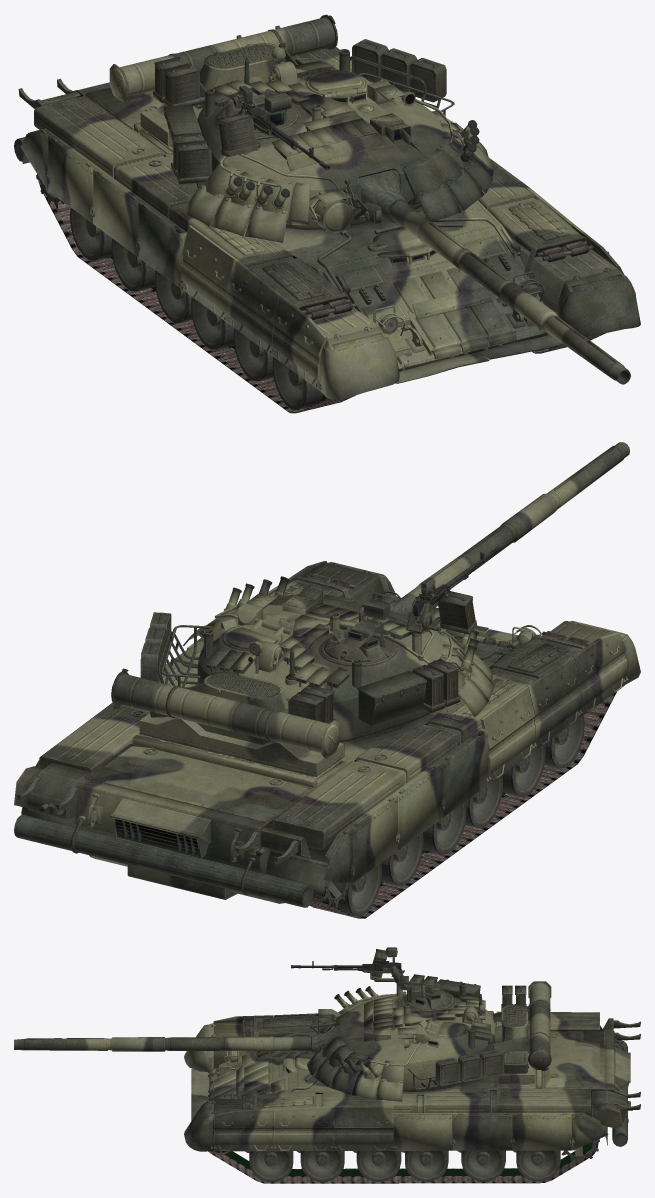
The model's file is t80u_javanilga.glb.
The picture shows the model from 3 angles, top to bottom: view 1: azimuth 30°, elevation 25°; view 2: azimuth 150°, elevation 25°; view 3: azimuth 270°, elevation 25°; orthographic projection. The views are drawn at different scales.
Parts seen in each view (by area): view 1: T-80U_Main_2, Object_48, Object_44, Plane01_7, Object_18, Object_34, Object_26, Object_22, Object_28, Object_20, Object_24, Object_32 (+2 smaller); view 2: T-80U_Main_2, Object_48, Object_44, Plane01_7, Object_34, Object_28, Object_24, Object_20, Object_26, Object_18, Object_22, Object_32 (+1 smaller); view 3: T-80U_Main_2, Object_48, Object_44, Plane01_7, Object_26, Object_28, Object_18, Object_20, Object_22, Object_24, Object_8, Object_32 (+2 smaller).
Boxes of the visible parts, left/top/right/bottom form: T-80U_Main_2: left=14, top=25, right=640, bottom=399; Object_48: left=109, top=14, right=493, bottom=242; Object_44: left=357, top=169, right=630, bottom=384; Plane01_7: left=37, top=174, right=605, bottom=413; Object_18: left=272, top=346, right=555, bottom=409; Object_34: left=217, top=105, right=260, bottom=156; Object_26: left=111, top=238, right=155, bottom=291; Object_22: left=190, top=297, right=234, bottom=349; Object_28: left=69, top=208, right=112, bottom=260; Object_20: left=233, top=328, right=273, bottom=380; Object_24: left=154, top=270, right=192, bottom=322; Object_32: left=236, top=85, right=329, bottom=169; T-80U_Main_2: left=14, top=561, right=640, bottom=907; Object_48: left=111, top=576, right=494, bottom=776; Object_44: left=390, top=442, right=629, bottom=616; Plane01_7: left=309, top=692, right=616, bottom=918; Object_34: left=395, top=590, right=476, bottom=634; Object_28: left=324, top=863, right=381, bottom=915; Object_24: left=422, top=801, right=466, bottom=854; Object_20: left=502, top=744, right=545, bottom=796; Object_26: left=381, top=833, right=423, bottom=885; Object_18: left=544, top=715, right=584, bottom=768; Object_22: left=465, top=775, right=503, bottom=827; Object_32: left=409, top=546, right=500, bottom=624; T-80U_Main_2: left=184, top=1011, right=640, bottom=1152; Object_48: left=307, top=974, right=551, bottom=1101; Object_44: left=14, top=1024, right=339, bottom=1053; Plane01_7: left=208, top=1120, right=598, bottom=1183; Object_26: left=461, top=1150, right=505, bottom=1181; Object_28: left=516, top=1150, right=560, bottom=1181; Object_18: left=249, top=1130, right=293, bottom=1181; Object_20: left=300, top=1133, right=344, bottom=1181; Object_22: left=356, top=1151, right=401, bottom=1181; Object_24: left=405, top=1150, right=448, bottom=1181; Object_8: left=224, top=1144, right=592, bottom=1176; Object_32: left=291, top=947, right=404, bottom=976.
Bounding box in the file's own units: 4.1 × 3.04 × 10.83.
9 materials, 8 textured.
